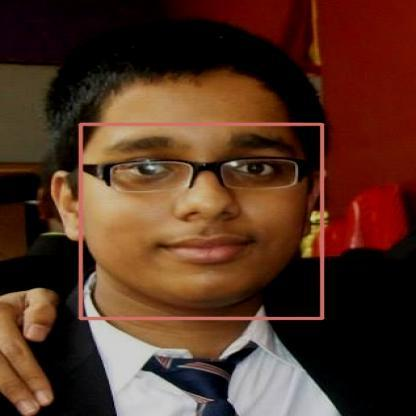without_mask: (80, 124, 322, 318)
